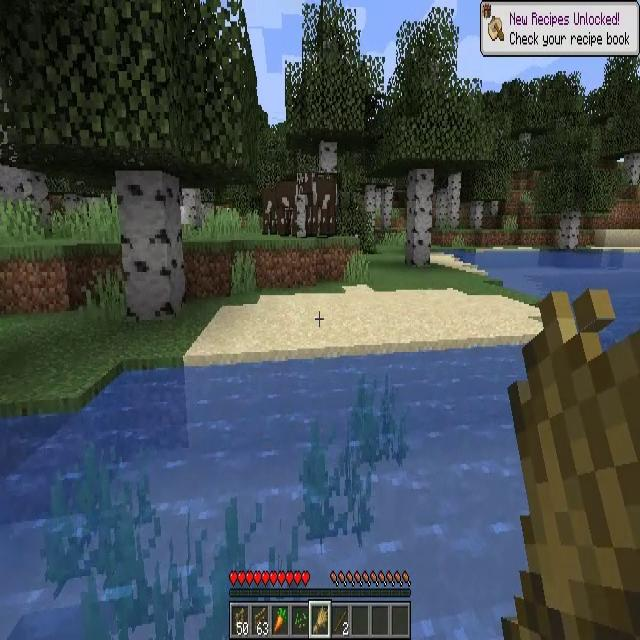cow: (297, 174, 337, 238), (276, 178, 298, 236), (264, 188, 275, 236)
